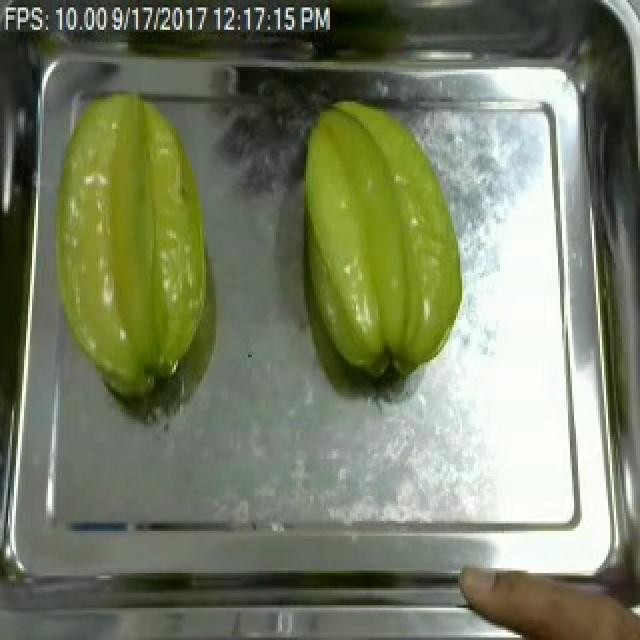fruit: (38, 80, 234, 414), (284, 87, 472, 394), (448, 558, 640, 640)
